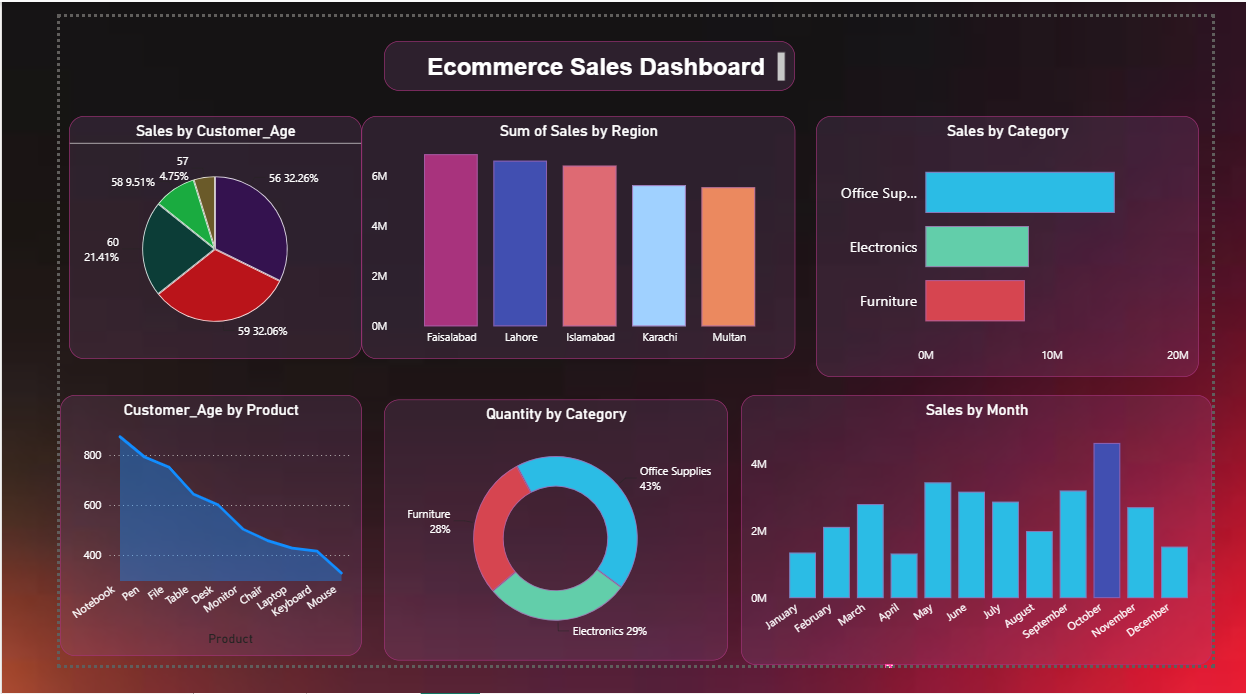

The dashboard page shown, as its layout file describes it:
{"tool":"powerbi","page":{"name":"Page 1","canvas":[1280,720],"ordinal":0},"visuals":[{"type":"textbox","box":[360,26.7,456.7,55],"z":0},{"type":"lineClusteredColumnComboChart","title":" Sales by Month","fields":{"Category":["Raw_Data.Order_Date.Variation.Date Hierarchy.Month"],"Y":["Sum(Raw_Data.Sales)"]},"box":[756.7,420,523.3,300],"z":1},{"type":"barChart","title":" Sales by Category","fields":{"Category":["Raw_Data.Category"],"Y":["Sum(Raw_Data.Sales)"]},"box":[840,110,425,290],"z":2},{"type":"donutChart","title":" Quantity by Category","fields":{"Category":["Raw_Data.Category"],"Y":["Sum(Raw_Data.Quantity)"]},"box":[360,425,381.7,290],"z":3},{"type":"clusteredColumnChart","fields":{"Y":["Sum(Raw_Data.Sales)"],"Category":["Raw_Data.Region"]},"box":[335,110,481.7,270],"z":4},{"type":"areaChart","title":"Customer_Age by Product","fields":{"Category":["Raw_Data.Product"],"Y":["Sum(Raw_Data.Customer_Age)"]},"box":[0,420,335,290],"z":5},{"type":"pieChart","title":"Sales by Customer_Age","fields":{"Category":["Raw_Data.Customer_Age"],"Y":["Sum(Raw_Data.Sales)"]},"box":[10,110,325,270],"z":6}]}

Visuals, with their boxes in screenshot pixels (x1, y1, x2, y2), scaled from the page's 1280x720 canvas onto the 1246x694 screenshot:
textbox: (x1=350, y1=26, x2=795, y2=79)
" Sales by Month" lineClusteredColumnComboChart: (x1=737, y1=405, x2=1245, y2=693)
" Sales by Category" barChart: (x1=818, y1=106, x2=1231, y2=386)
" Quantity by Category" donutChart: (x1=350, y1=410, x2=722, y2=689)
clusteredColumnChart - Sum(Raw_Data.Sales) x Raw_Data.Region: (x1=326, y1=106, x2=795, y2=366)
"Customer_Age by Product" areaChart: (x1=0, y1=405, x2=326, y2=684)
"Sales by Customer_Age" pieChart: (x1=10, y1=106, x2=326, y2=366)
